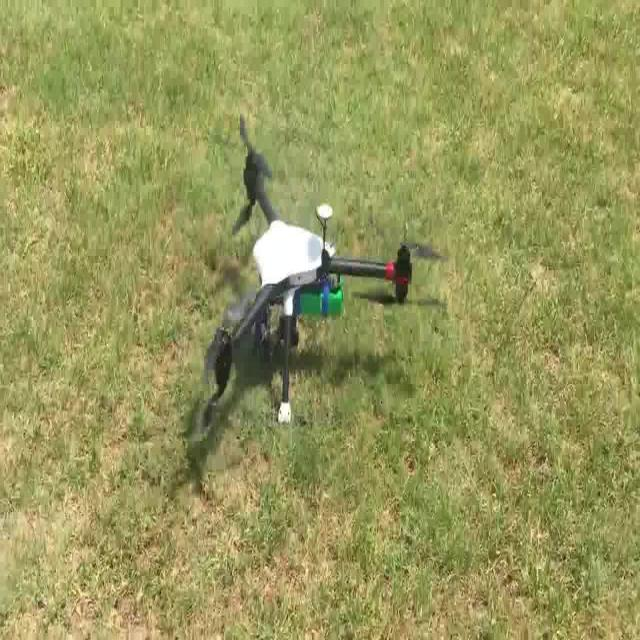drones: (162, 95, 456, 500)
